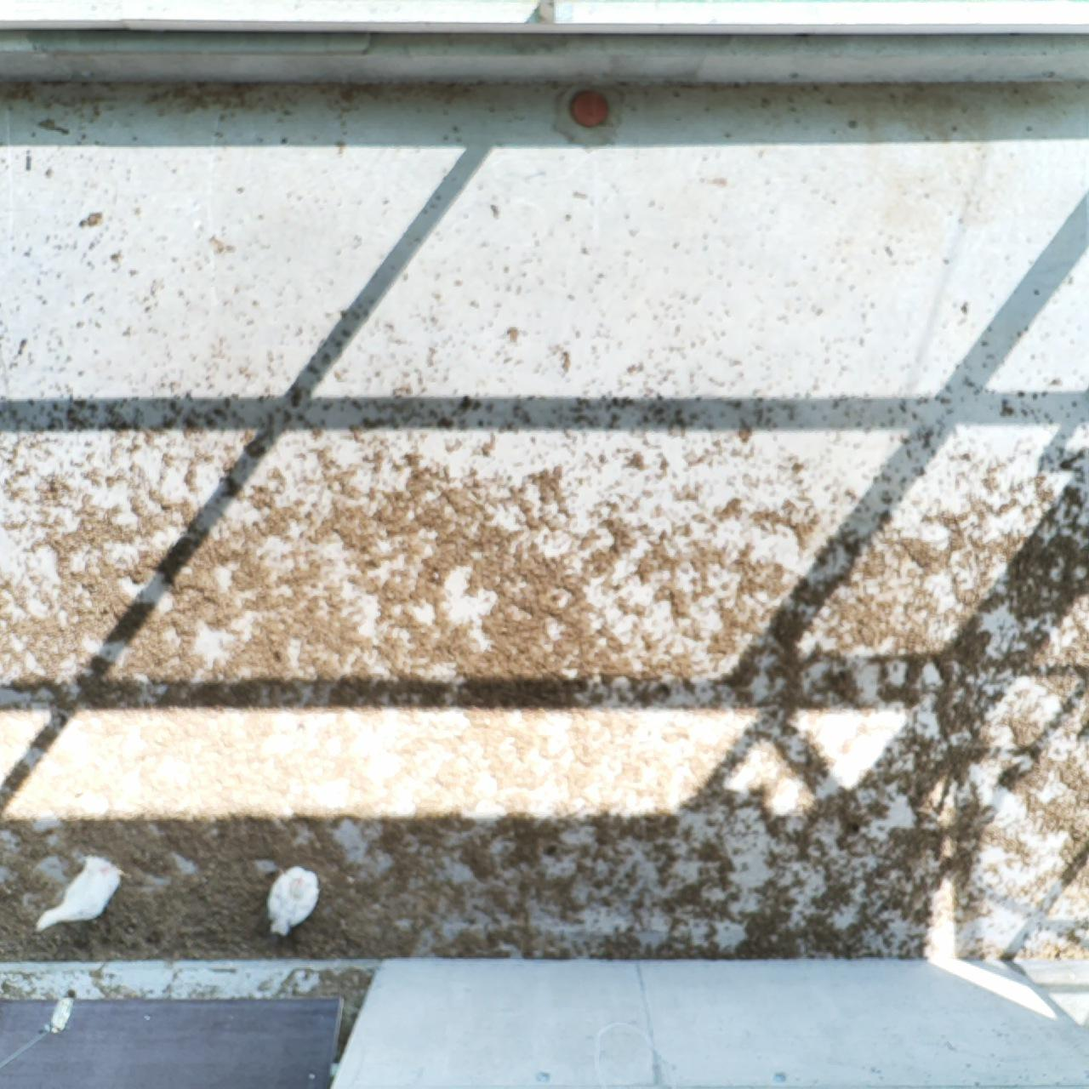chicken: (36, 855, 133, 939), (262, 862, 324, 937)
